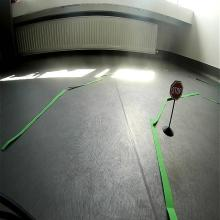stop: (169, 80, 184, 100)
